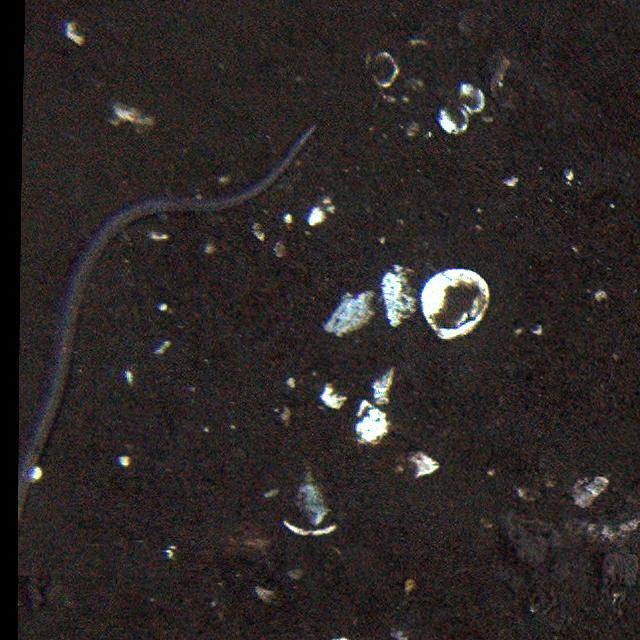eel: (25, 122, 316, 504)
